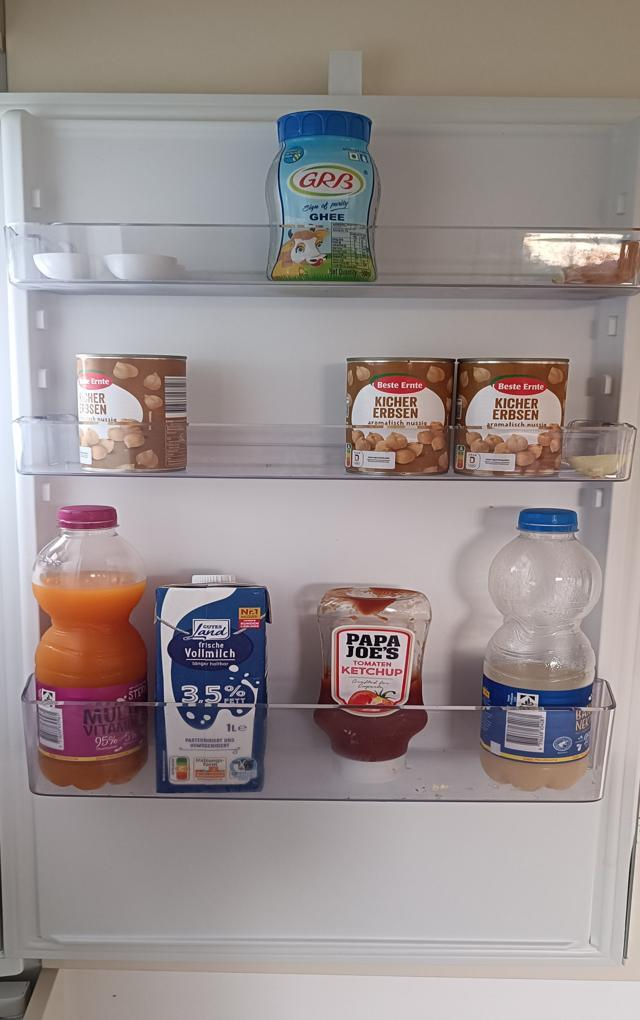bananajuice: (482, 506, 603, 793)
chickpeas: (75, 353, 190, 474), (457, 355, 566, 481), (345, 356, 451, 478)
ghee: (264, 108, 382, 287)
milk: (156, 575, 271, 794)
orangejuice: (32, 503, 153, 791)
tomatoketchup: (314, 586, 431, 782)
